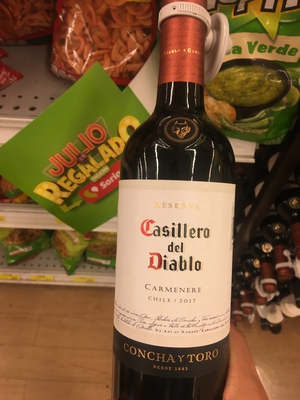casillero del diablo carmenere: (101, 13, 263, 400)
